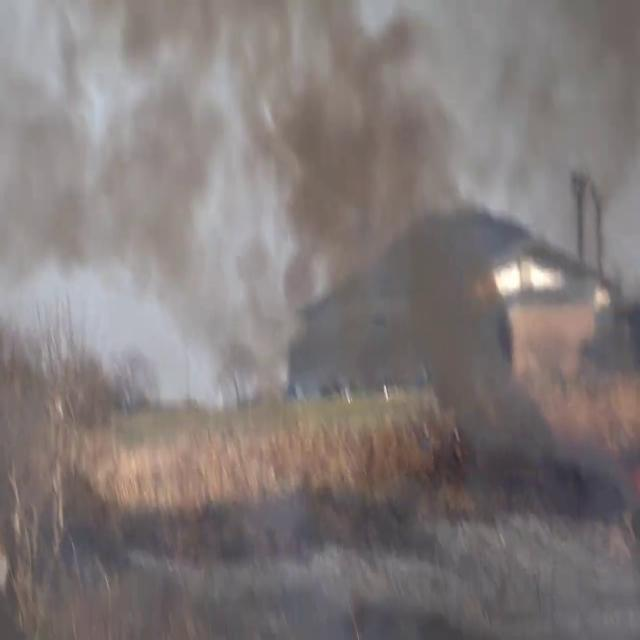Smoke: (1, 0, 563, 444)
